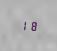eight: (28, 19, 36, 31)
one: (19, 19, 27, 30)
